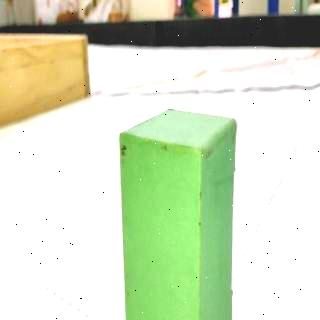greenbox: (119, 107, 239, 320)
